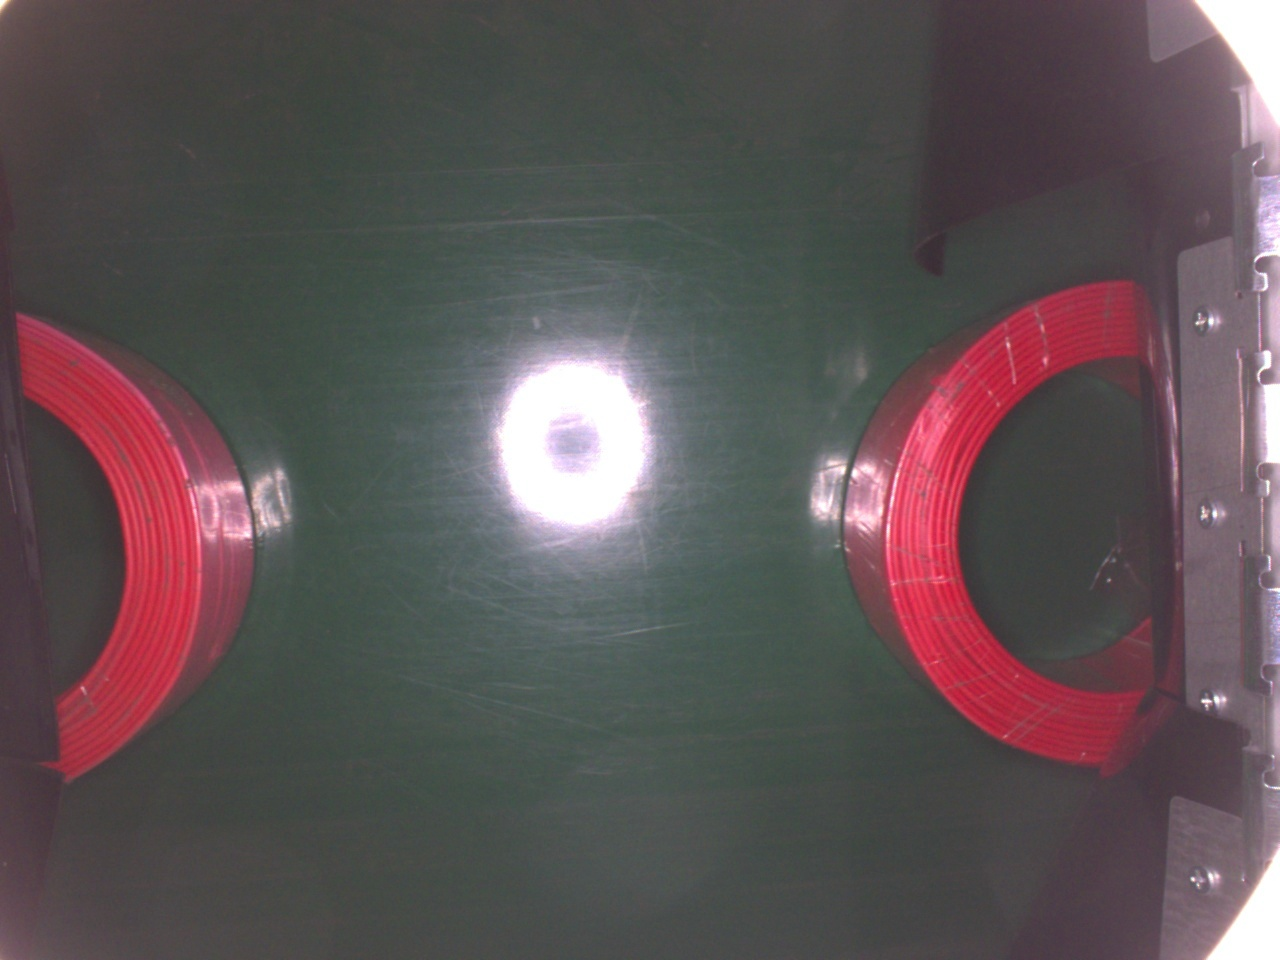red: (837, 278, 1154, 769), (15, 307, 261, 784)
